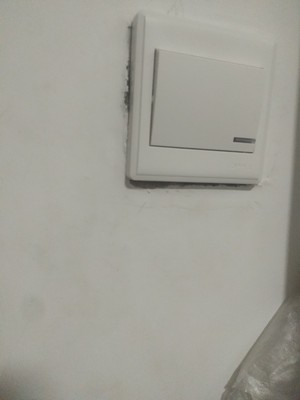switch: (152, 40, 263, 161)
